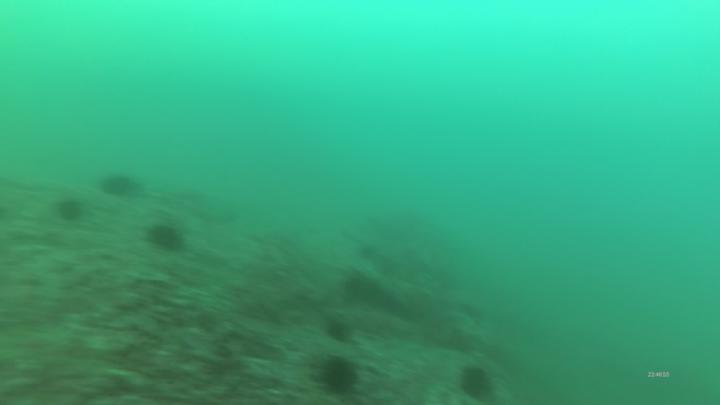echinus: (309, 352, 366, 400), (460, 360, 492, 401), (145, 221, 185, 252), (97, 171, 138, 199), (55, 196, 84, 225), (325, 315, 352, 344)
